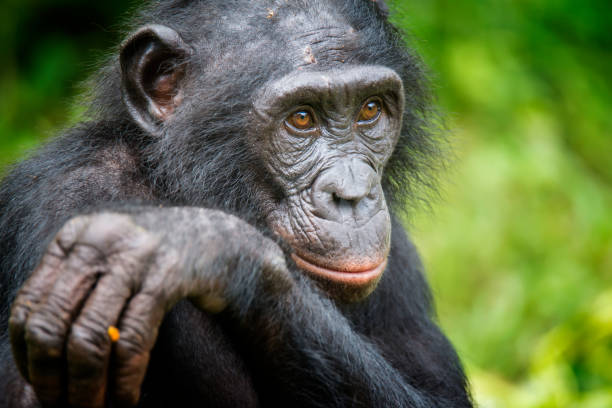chimpanzee: (87, 4, 447, 321)
